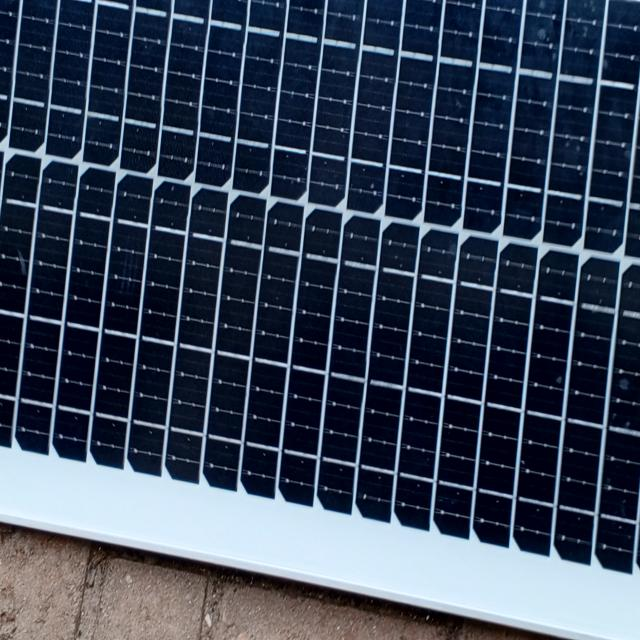Clean: (1, 0, 640, 506)
